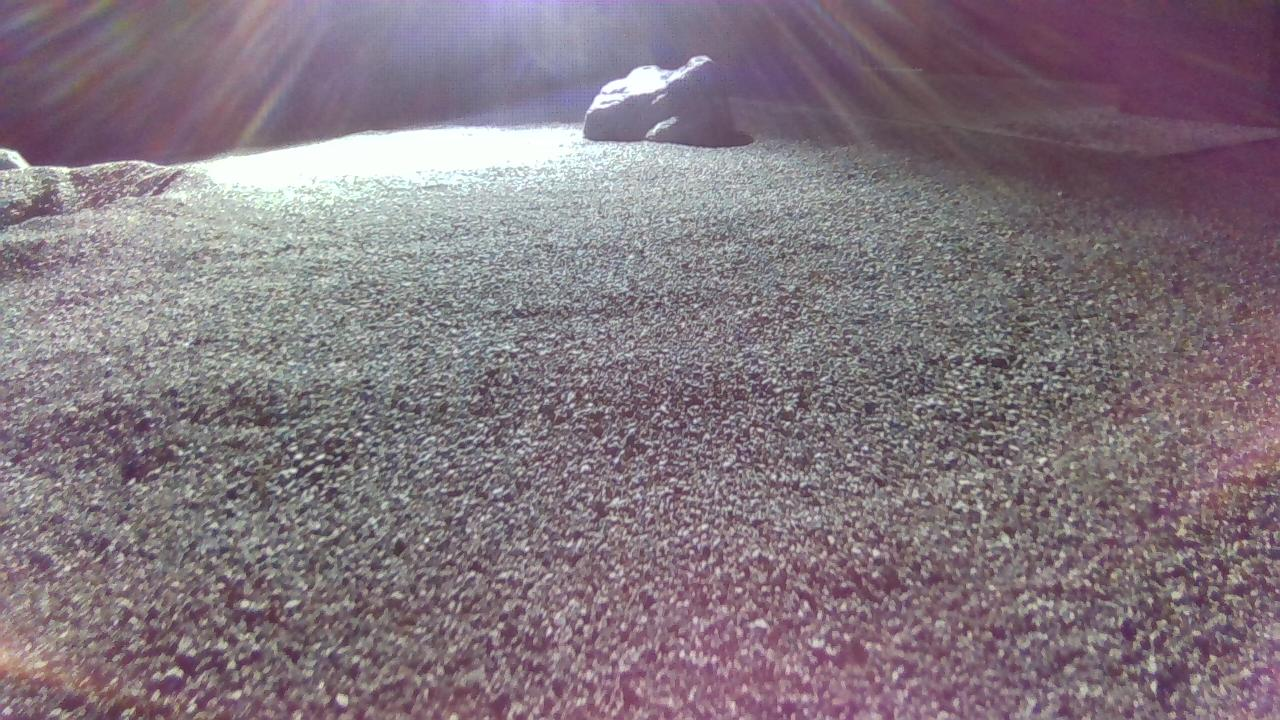rock: (584, 54, 738, 146)
